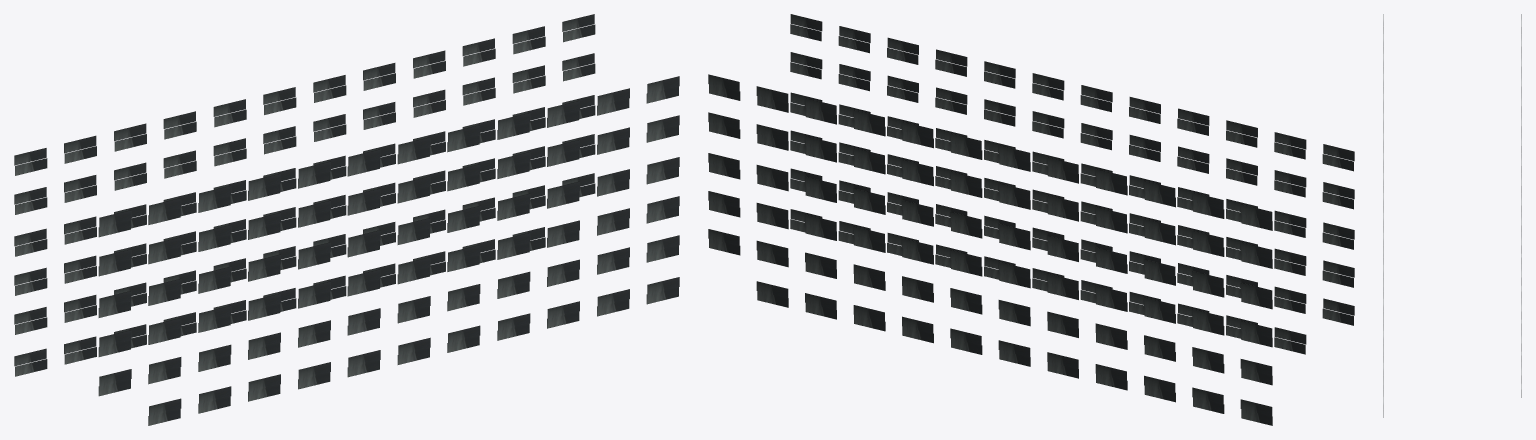
Rendered from TRANS_Building_7stores_PopularHouse.obj.
3 views of the same model, side by side, from view 1: azimuth 30°, elevation 25°; view 2: azimuth 150°, elevation 25°; view 3: azimuth 270°, elevation 25° (orthographic). The views are drawn at different scales.
Visible parts, largest first — view 1: TRANS_Building_7stores_PopularHouse; view 2: TRANS_Building_7stores_PopularHouse; view 3: TRANS_Building_7stores_PopularHouse.
Boxes of the visible parts, x1=… form: TRANS_Building_7stores_PopularHouse: x1=14, y1=14, x2=679, y2=425; TRANS_Building_7stores_PopularHouse: x1=708, y1=14, x2=1354, y2=425; TRANS_Building_7stores_PopularHouse: x1=1383, y1=14, x2=1521, y2=417.
Bounding box in the file's own units: 15.29 × 5.56 × 3.87.
